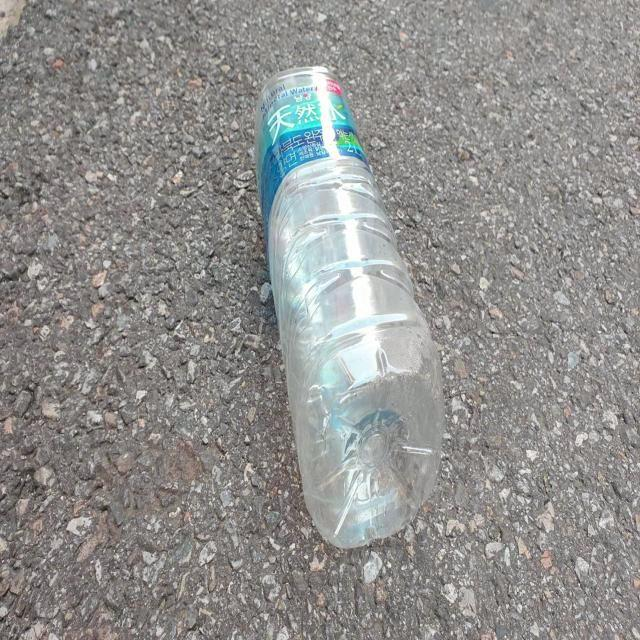bottle: (254, 65, 442, 549)
